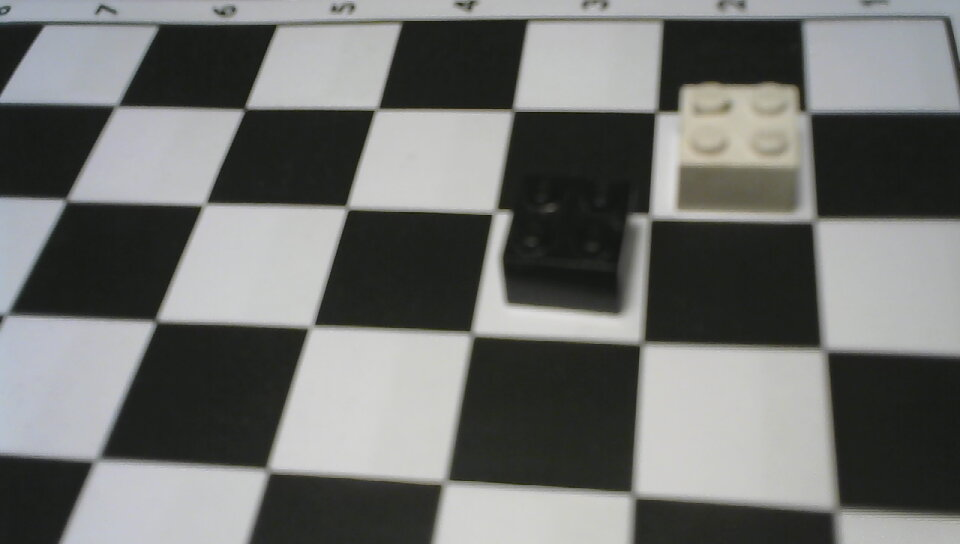wp: (668, 75, 805, 216)
